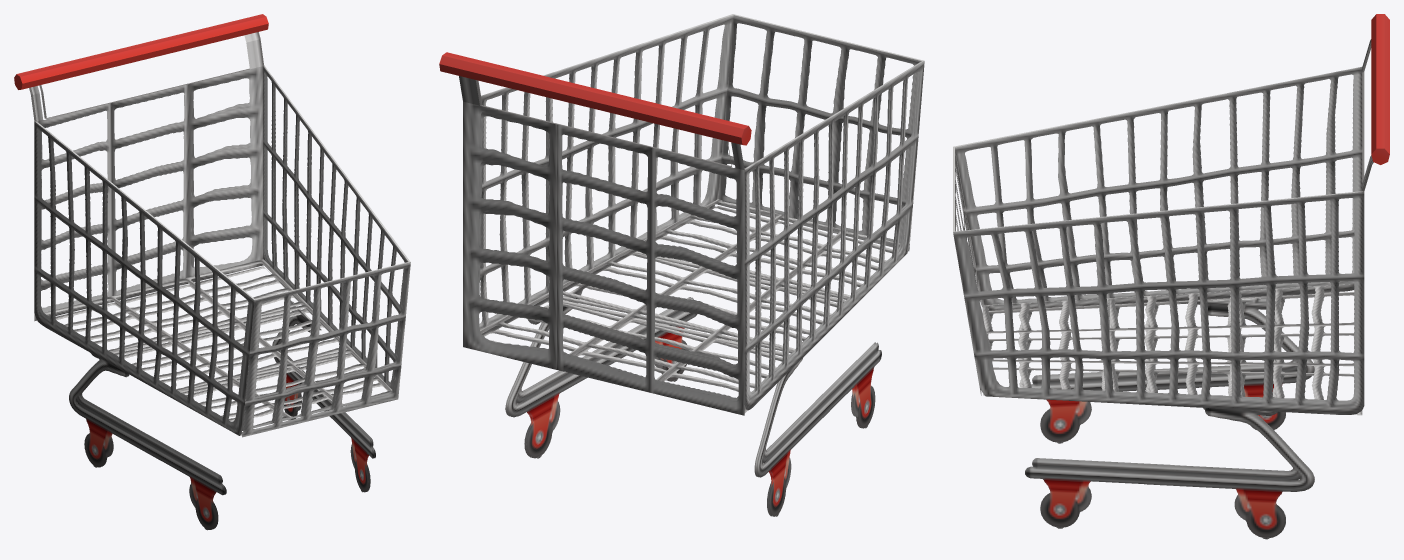
File: SM_Cart.fbx
The picture shows the model from 3 angles, left to right: view 1: azimuth 30°, elevation 25°; view 2: azimuth 150°, elevation 25°; view 3: azimuth 270°, elevation 25°; orthographic projection. The views are drawn at different scales.
Visible parts, largest first — view 1: SM_Cart; view 2: SM_Cart; view 3: SM_Cart.
Part boxes in pixels (x1,y1,x2,y2): SM_Cart: [14, 14, 410, 530]; SM_Cart: [439, 14, 924, 516]; SM_Cart: [953, 14, 1389, 539].
Bounding box in the file's own units: 215 × 303 × 294.
1 material, 1 textured.
